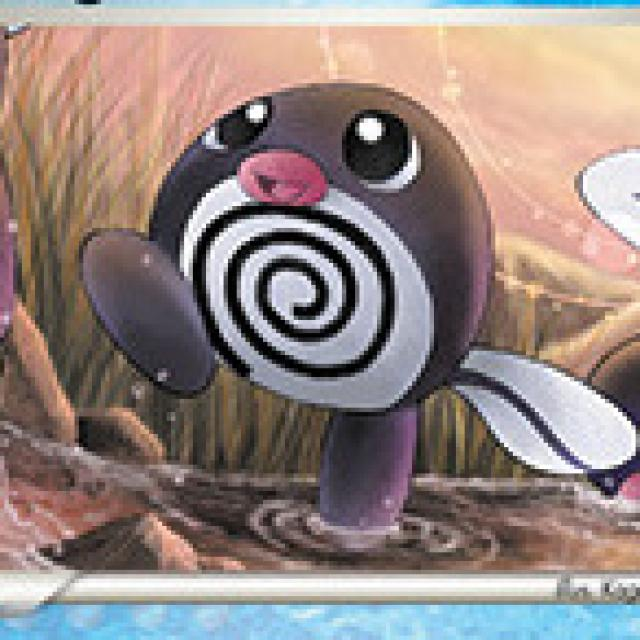Poliwag: (118, 86, 501, 477)
